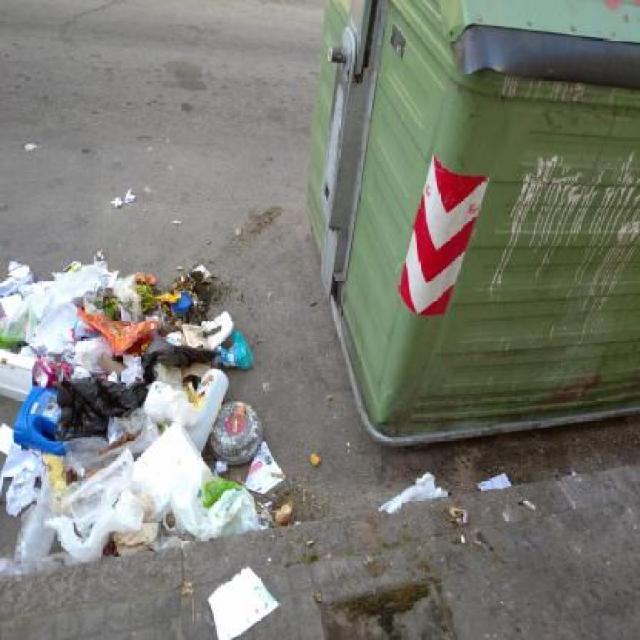garbage: (0, 224, 354, 640)
